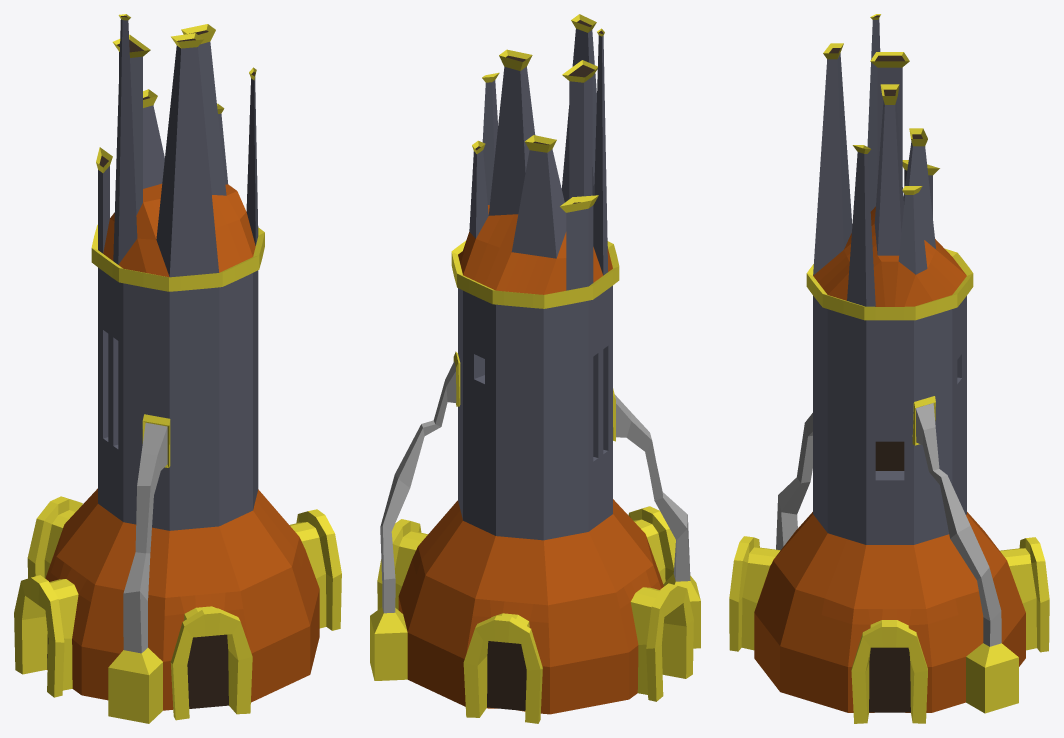
Rendered from Tower_Slow.obj.
3 views of the same model, side by side, from view 1: azimuth 30°, elevation 25°; view 2: azimuth 150°, elevation 25°; view 3: azimuth 270°, elevation 25° (orthographic). The views are drawn at different scales.
Parts seen in each view (by area): view 1: Cylinder.001; view 2: Cylinder.001; view 3: Cylinder.001.
Part boxes in pixels (bbox=[...]): Cylinder.001: bbox=[14, 14, 341, 723]; Cylinder.001: bbox=[370, 14, 700, 723]; Cylinder.001: bbox=[729, 14, 1049, 723].
Size of the model in its own units: 1.45 by 3.17 by 1.49.
